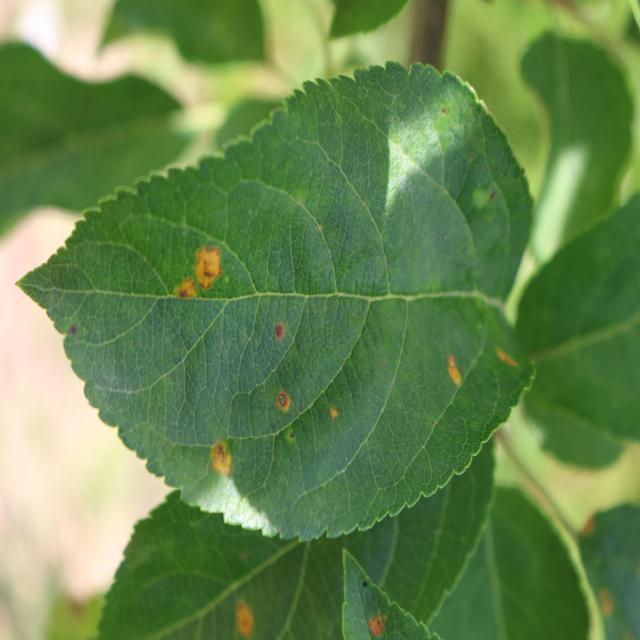Rust: (168, 238, 230, 314), (437, 339, 475, 409), (222, 585, 266, 640), (205, 429, 241, 489), (364, 597, 391, 640), (494, 338, 518, 381), (318, 394, 346, 425), (271, 387, 294, 420), (267, 322, 291, 347)
